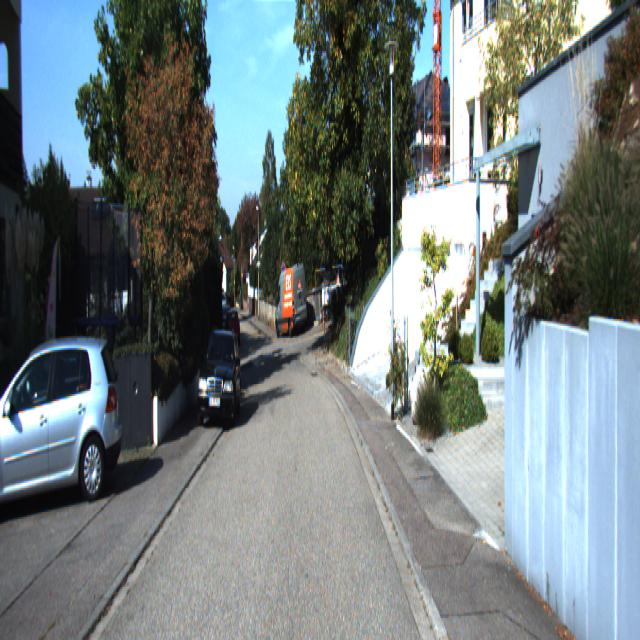Car: (0, 327, 129, 518), (196, 322, 244, 424), (275, 264, 308, 338)
